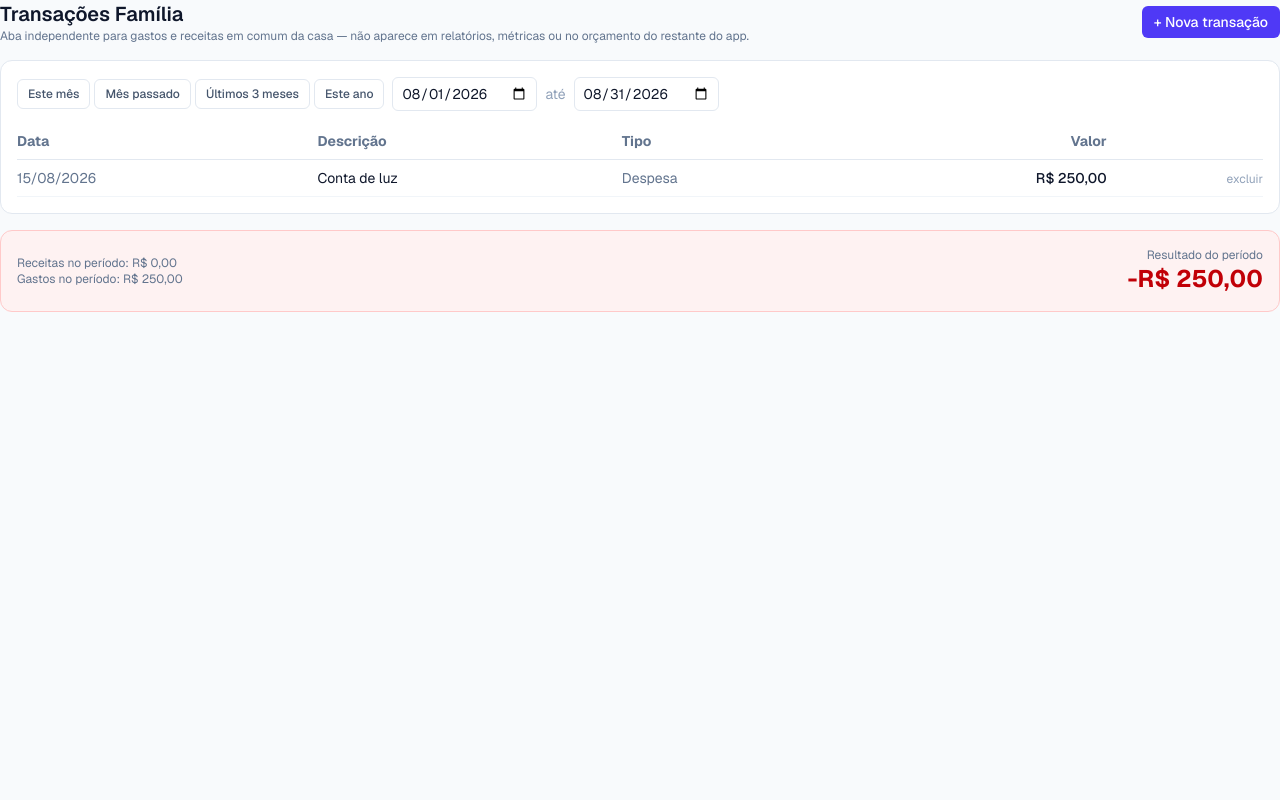
Test: página /transacoes-familia — exclusão › cancelar não exclui
Expected: the text "Conta de luz" is shown, top-left (318, 160), bottom-right (622, 196)
Step 1. Click the button "excluir" → (1245, 179), box top-left (1227, 171), bottom-right (1263, 187)
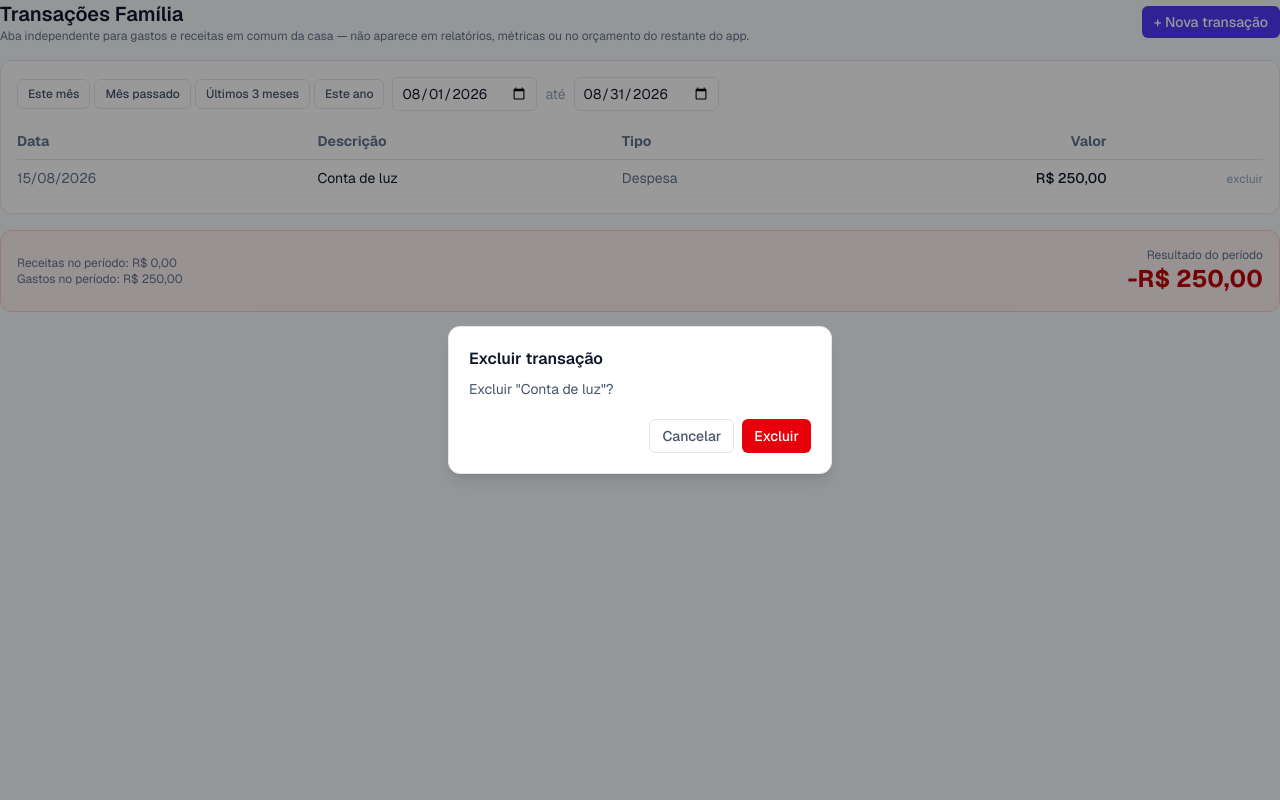
Step 2. Click the button "Cancelar" → (692, 436), box top-left (649, 419), bottom-right (734, 453)
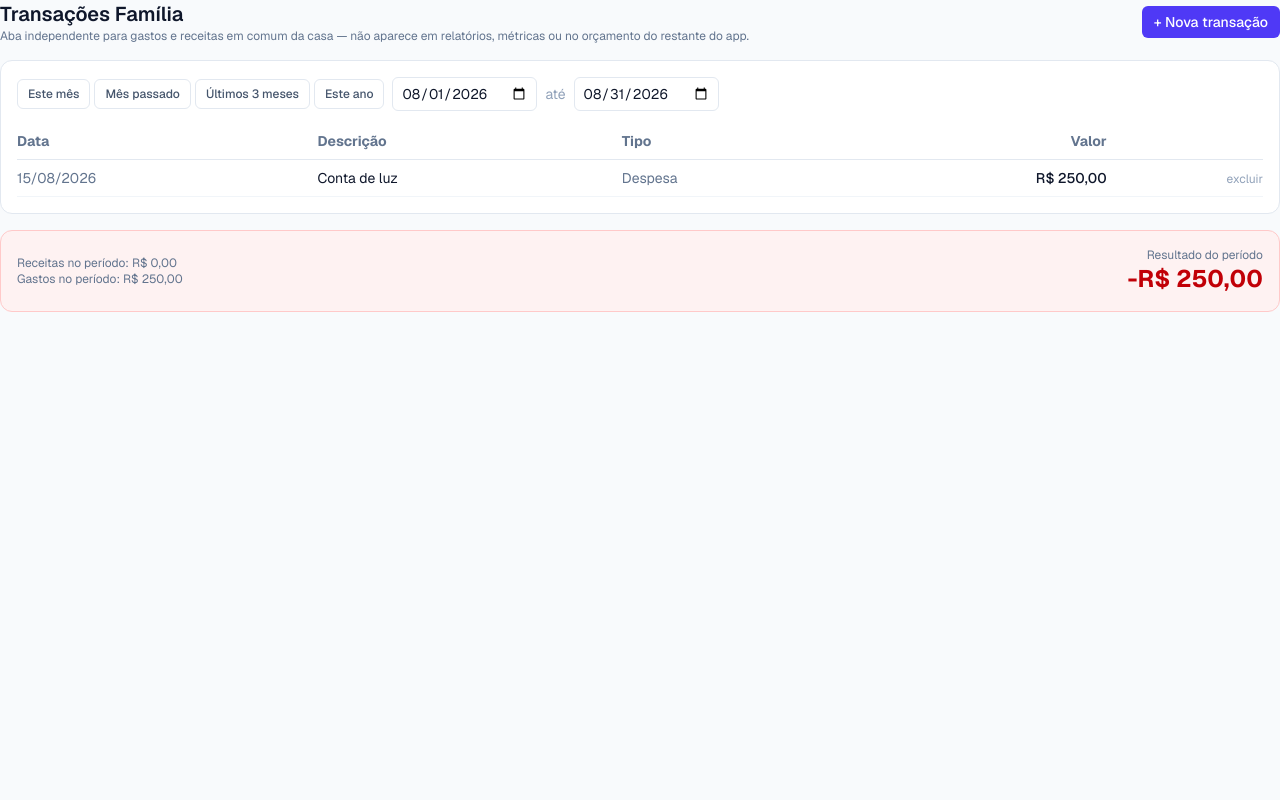
Result: the heading "Excluir transação" is gone
